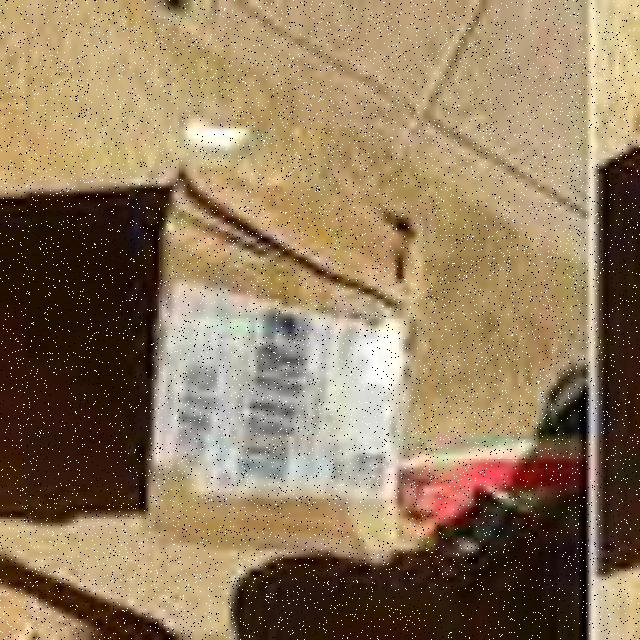defect: (0, 142, 553, 581)
